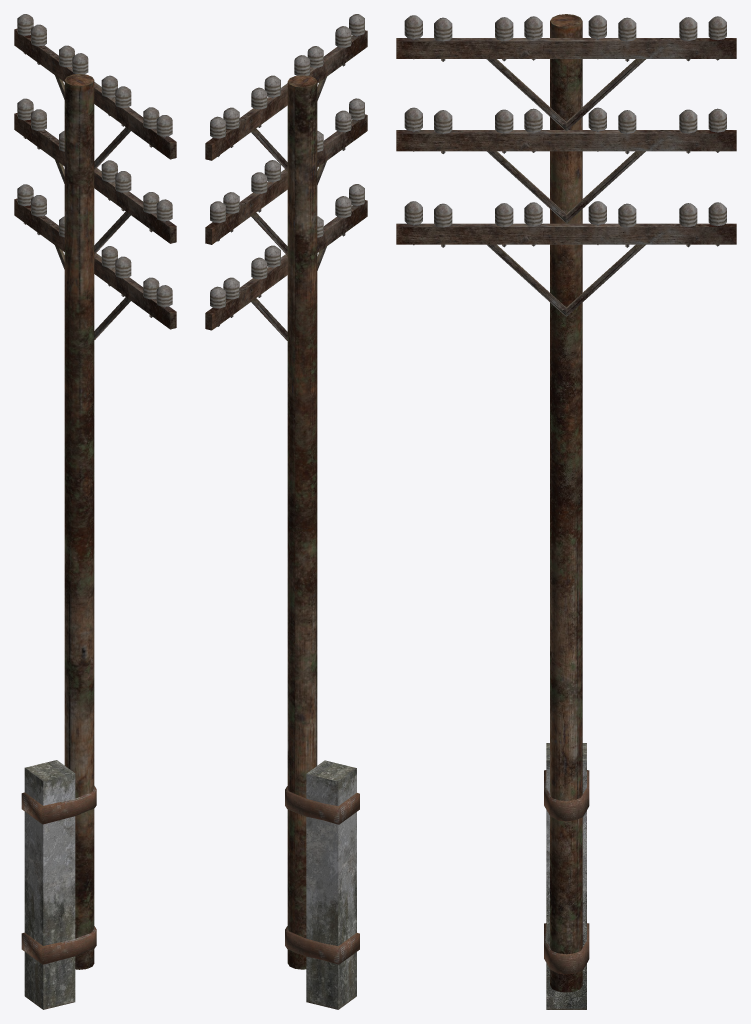
Rendered from power_pole.glb.
3 renders of one model, left to right at view 1: azimuth 30°, elevation 25°; view 2: azimuth 150°, elevation 25°; view 3: azimuth 270°, elevation 25°, orthographic. The views are drawn at different scales.
Parts seen in each view (by area): view 1: prop; view 2: prop; view 3: prop.
Boxes of the visible parts, bbox=[...] form: prop: bbox=[14, 14, 176, 1009]; prop: bbox=[205, 14, 367, 1009]; prop: bbox=[396, 14, 736, 1009].
Size of the model in its own units: 0.5431 by 6.86 by 2.1.
1 material, 1 textured.
